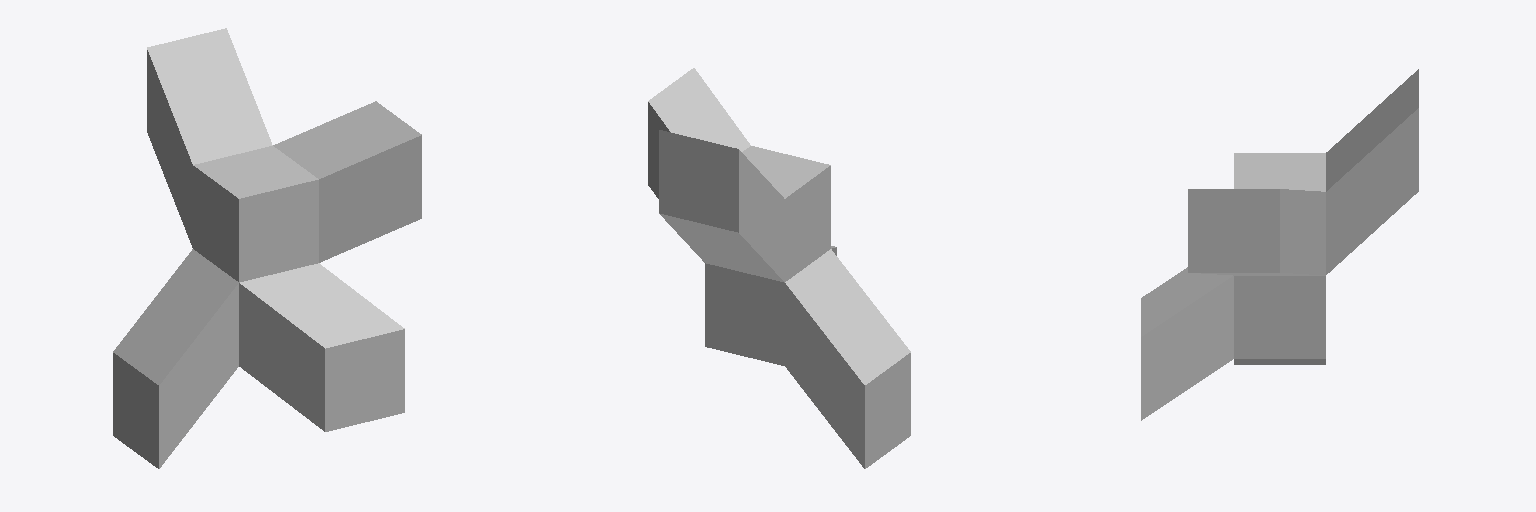
File: quadCubeModel_triangulated.obj
The picture shows the model from 3 angles: view 1: azimuth 30°, elevation 25°; view 2: azimuth 150°, elevation 25°; view 3: azimuth 270°, elevation 25°; orthographic projection.
Visible parts, largest first — view 1: Cube.001_Cube.003; view 2: Cube.001_Cube.003; view 3: Cube.001_Cube.003.
Boxes of the visible parts, box(x1,y1,x2,y2) form: Cube.001_Cube.003: box(113, 28, 421, 468); Cube.001_Cube.003: box(648, 68, 910, 468); Cube.001_Cube.003: box(1141, 69, 1418, 420).
Size of the model in its own units: 6 by 8 by 6.